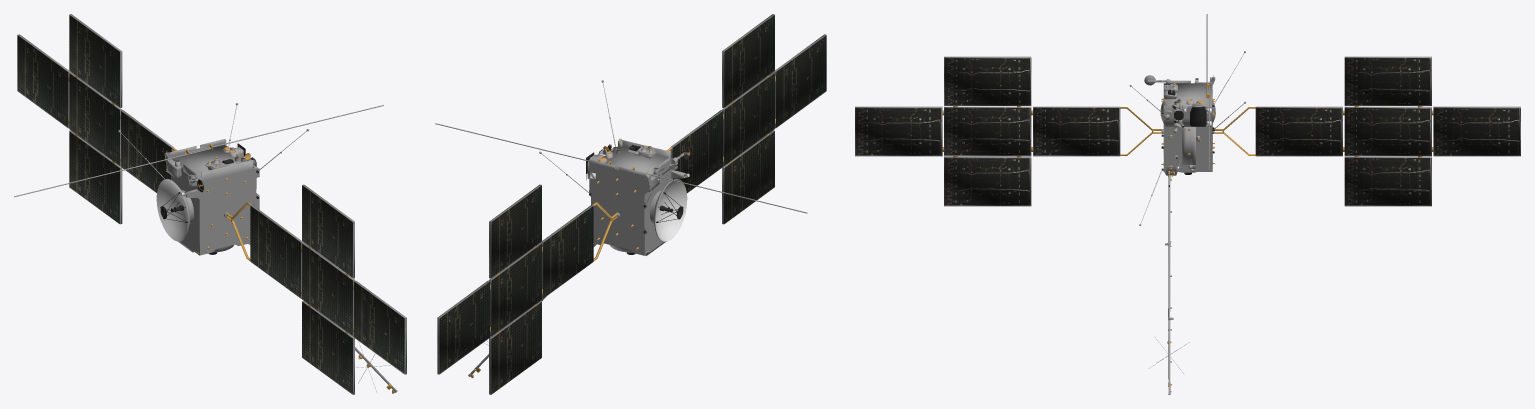
The model's file is juice.glb.
3 renders of one model, left to right at view 1: azimuth 30°, elevation 25°; view 2: azimuth 150°, elevation 25°; view 3: azimuth 270°, elevation 25°, orthographic. The views are drawn at different scales.
Visible parts, largest first — view 1: juice_uv; view 2: juice_uv; view 3: juice_uv.
Boxes of the visible parts, x1,y1,x2,y2 form: juice_uv: [14, 14, 406, 394]; juice_uv: [435, 14, 826, 394]; juice_uv: [855, 14, 1520, 394].
Bounding box in the file's own units: 663 × 528 × 1199.
Materials: 1 (1 with a texture image).
